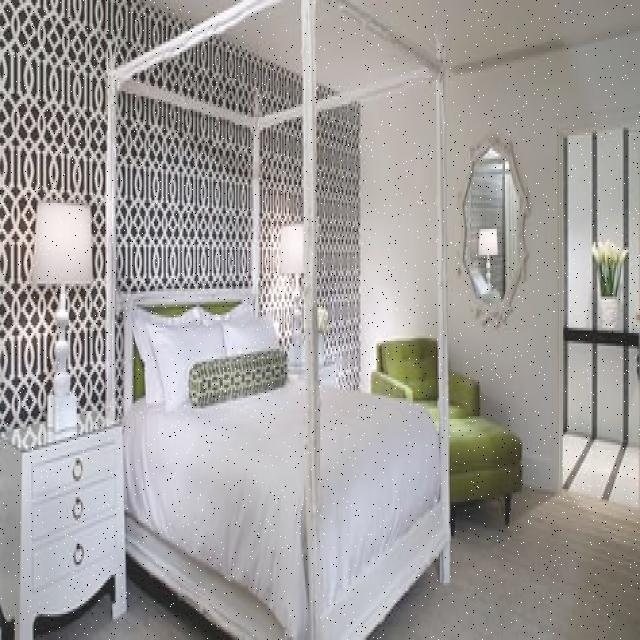bed: (120, 278, 440, 634)
